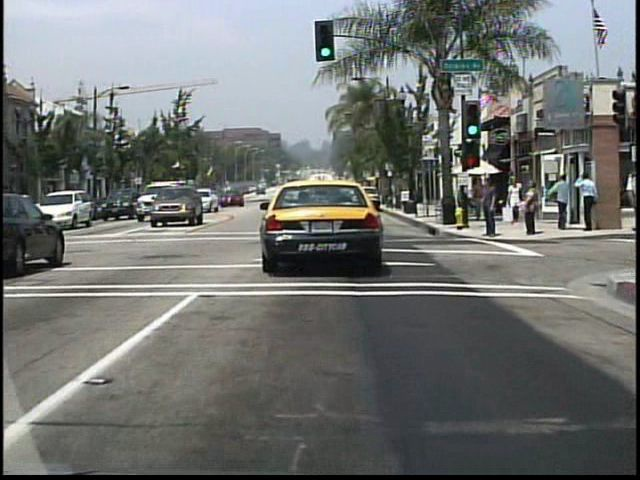person: (574, 170, 600, 232), (550, 172, 570, 233), (481, 179, 500, 240), (470, 177, 490, 226), (521, 183, 539, 236), (506, 178, 524, 229)
